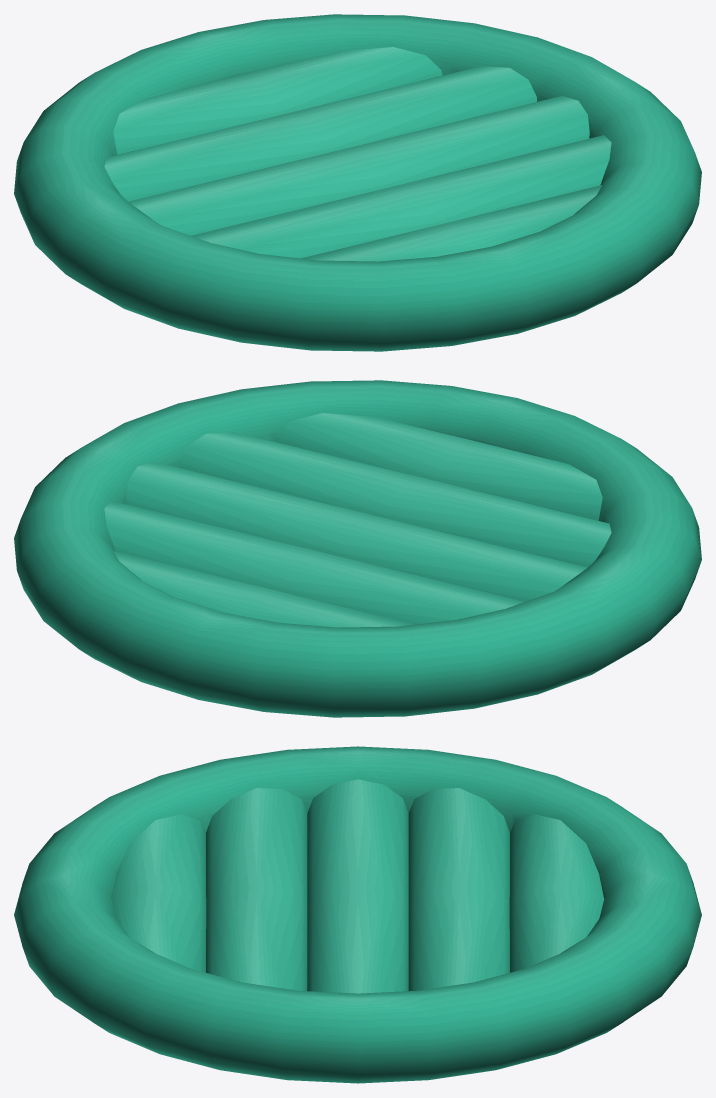
File: tube_round_green.fbx
3 renders of one model, top to bottom at view 1: azimuth 30°, elevation 25°; view 2: azimuth 150°, elevation 25°; view 3: azimuth 270°, elevation 25°, orthographic.
Visible parts, largest first — view 1: tube_round_green; view 2: tube_round_green; view 3: tube_round_green.
Part boxes in pixels (x1,y1,x2,y2): tube_round_green: (14, 14, 701, 351); tube_round_green: (14, 380, 701, 717); tube_round_green: (14, 746, 701, 1083).
Size of the model in its own units: 80 by 10.09 by 80.
